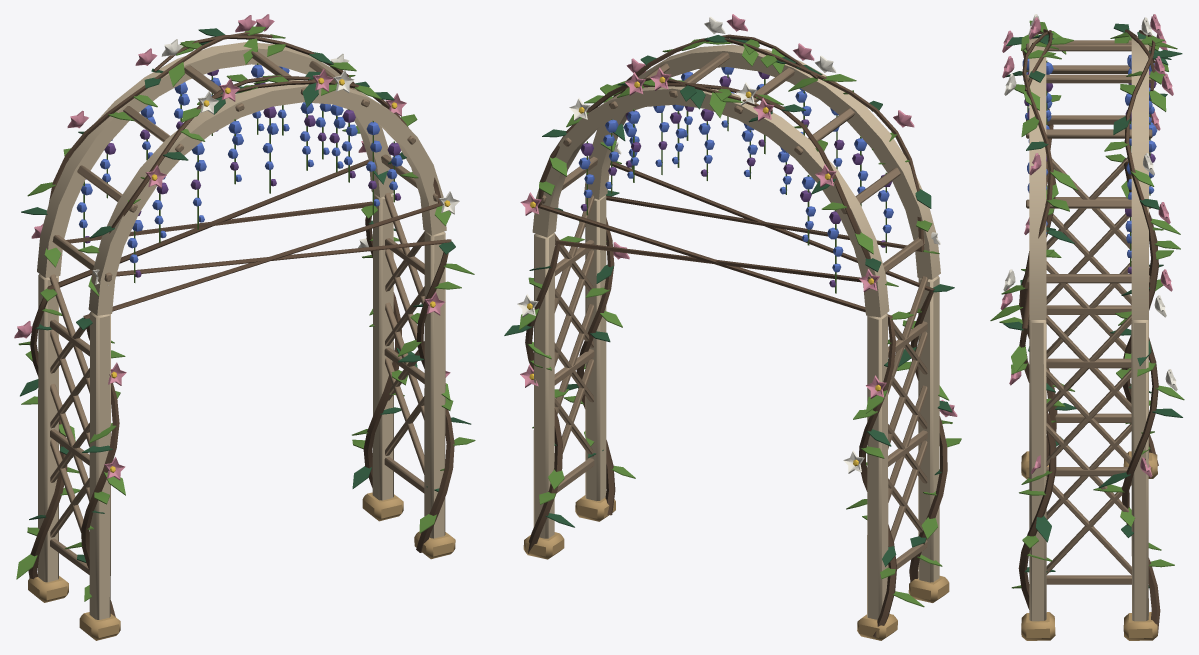
The model's file is deco_trellis_arch.fbx.
The picture shows the model from 3 angles, left to right: view 1: azimuth 30°, elevation 25°; view 2: azimuth 150°, elevation 25°; view 3: azimuth 270°, elevation 25°; orthographic projection.
Visible parts, largest first — view 1: Trellis_Arch_Trellis, Trellis_Arch_Vines, Trellis_Arch_Flowers; view 2: Trellis_Arch_Trellis, Trellis_Arch_Vines, Trellis_Arch_Flowers; view 3: Trellis_Arch_Trellis, Trellis_Arch_Vines, Trellis_Arch_Flowers.
Boxes of the visible parts, left/top/right/bottom form: Trellis_Arch_Trellis: left=28, top=42, right=455, bottom=640; Trellis_Arch_Vines: left=16, top=26, right=475, bottom=616; Trellis_Arch_Flowers: left=14, top=14, right=459, bottom=480; Trellis_Arch_Trellis: left=523, top=44, right=949, bottom=640; Trellis_Arch_Vines: left=504, top=34, right=961, bottom=637; Trellis_Arch_Flowers: left=517, top=14, right=957, bottom=473; Trellis_Arch_Trellis: left=1021, top=36, right=1157, bottom=640; Trellis_Arch_Vines: left=990, top=20, right=1184, bottom=632; Trellis_Arch_Flowers: left=1000, top=14, right=1177, bottom=477.
Size of the model in its own units: 278 by 335 by 114.
